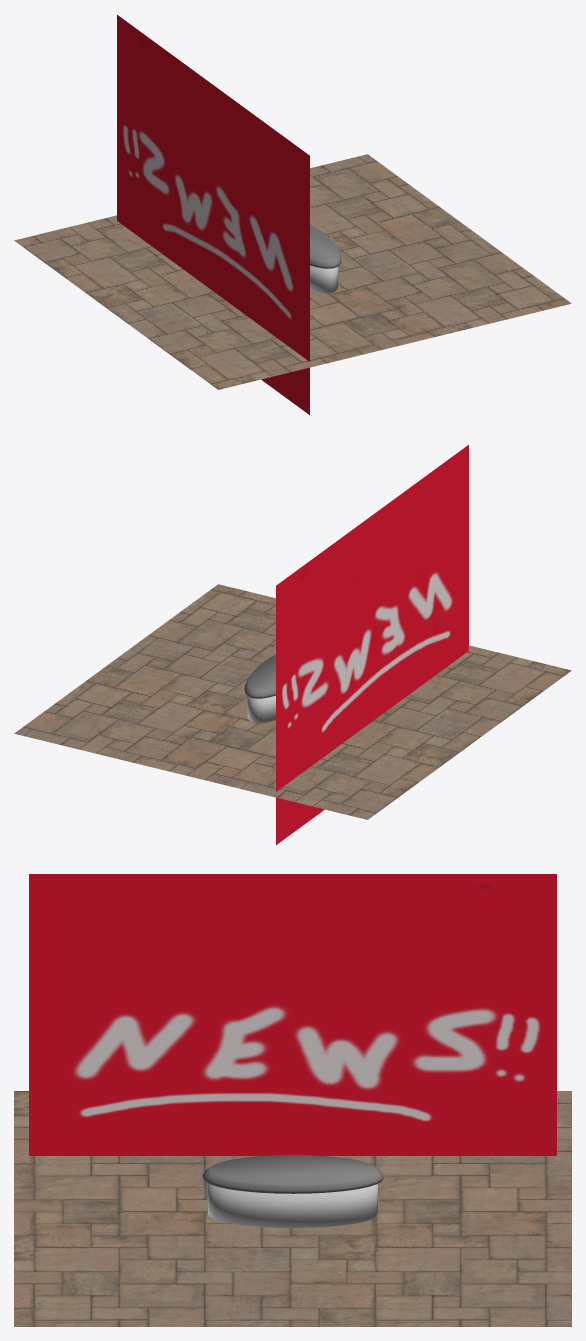
Rendered from NewsTable2.obj.
3 renders of one model, top to bottom at view 1: azimuth 30°, elevation 25°; view 2: azimuth 150°, elevation 25°; view 3: azimuth 270°, elevation 25°, orthographic. The views are drawn at different scales.
Parts seen in each view (by area): view 1: Plane, Plane.001, Cylinder.001, Cylinder; view 2: Plane, Plane.001, Cylinder.001, Cylinder; view 3: Plane.001, Plane, Cylinder, Cylinder.001.
Part boxes in pixels (<box>): Plane: <box>14,154,571,389</box>; Plane.001: <box>117,15,309,414</box>; Cylinder.001: <box>310,224,341,268</box>; Cylinder: <box>310,265,338,293</box>; Plane: <box>14,584,571,819</box>; Plane.001: <box>276,445,468,844</box>; Cylinder.001: <box>244,654,275,698</box>; Cylinder: <box>247,695,275,723</box>; Plane.001: <box>29,874,556,1155</box>; Plane: <box>14,1091,571,1326</box>; Cylinder: <box>208,1184,377,1227</box>; Cylinder.001: <box>202,1155,383,1193</box>.
Size of the model in its own units: 26 by 18.24 by 26.
